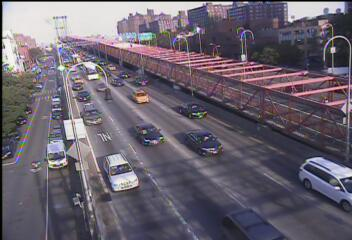neg: (331, 3, 345, 22), (320, 5, 331, 20), (288, 10, 299, 24)
